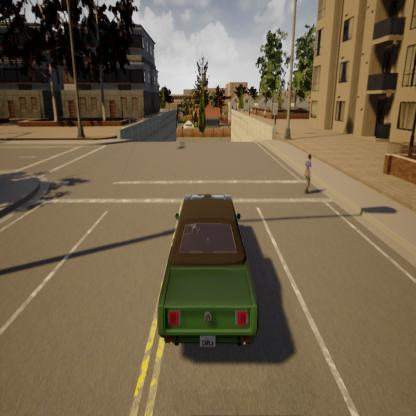Cars: (147, 183, 265, 378)
Pedestrian: (294, 134, 322, 218)
